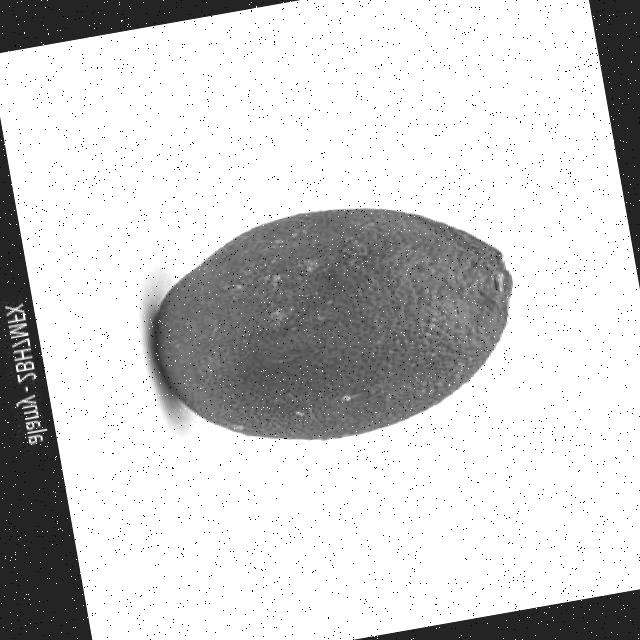overripe: (128, 172, 546, 478)
